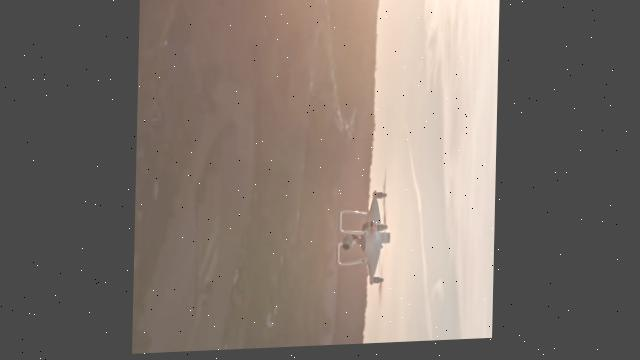drone: (333, 166, 394, 316)
